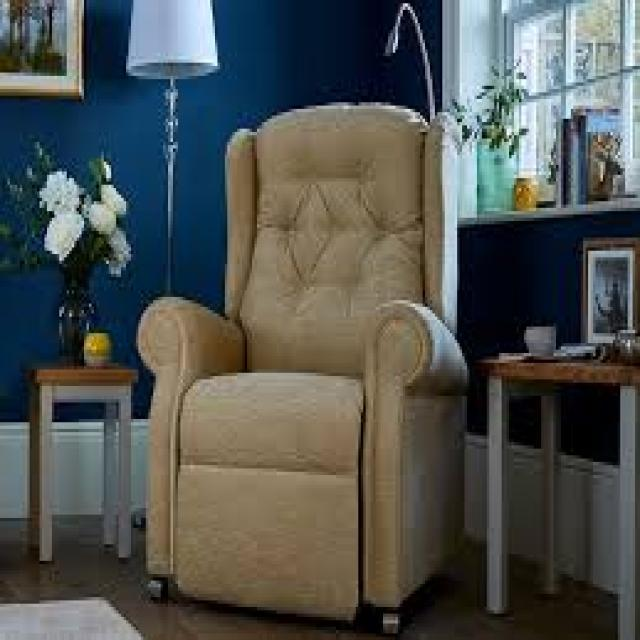chair: (111, 79, 478, 640)
